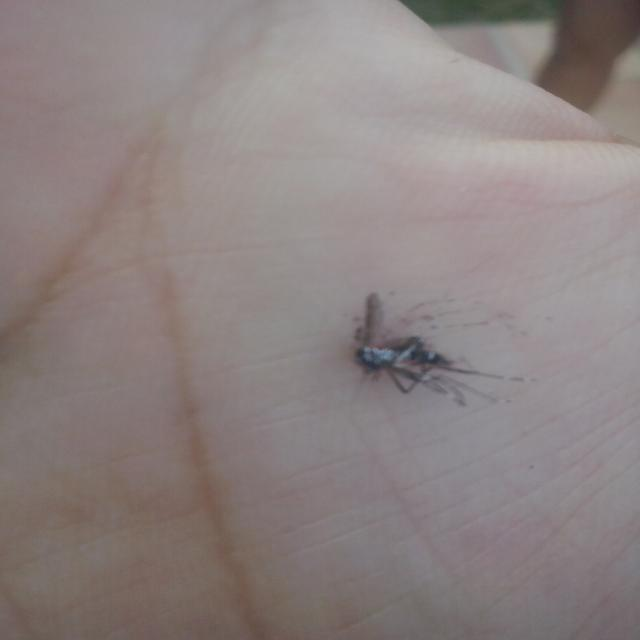albopictus: (333, 287, 533, 413)
